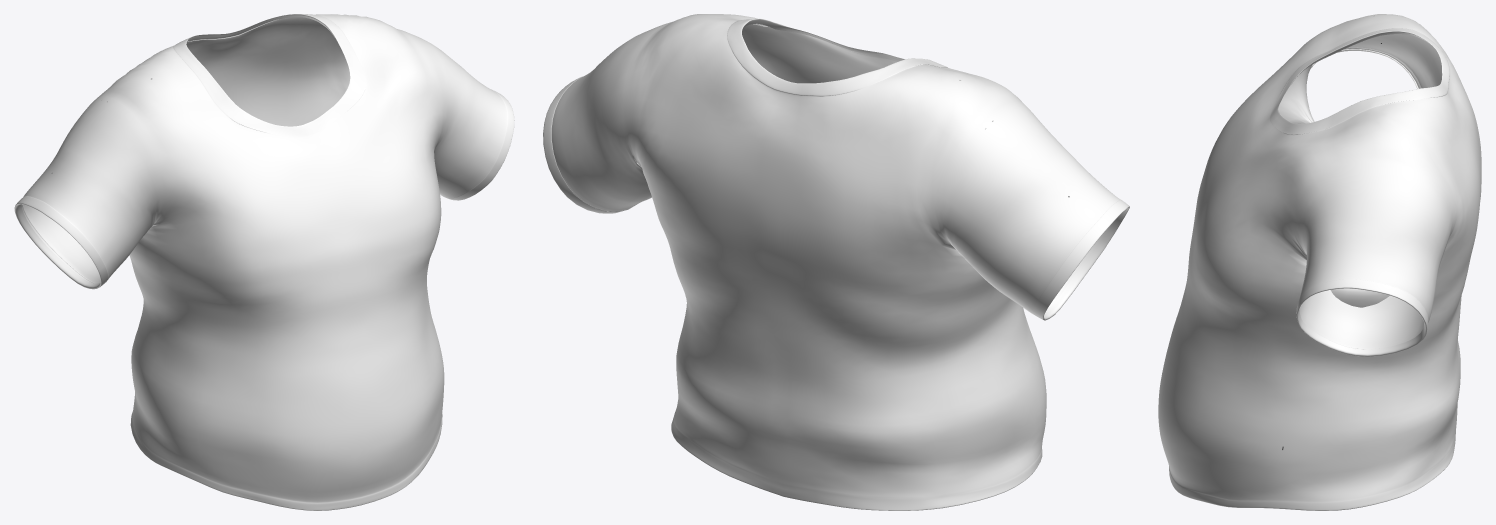
Rendered from Shirt.glb.
3 views of the same model, side by side, from view 1: azimuth 30°, elevation 25°; view 2: azimuth 150°, elevation 25°; view 3: azimuth 270°, elevation 25° (orthographic). The views are drawn at different scales.
Parts seen in each view (by area): view 1: TShirt_for_Genesis.002; view 2: TShirt_for_Genesis.002; view 3: TShirt_for_Genesis.002.
Boxes of the visible parts, x1,y1,x2,y2 form: TShirt_for_Genesis.002: (14,14,514,510); TShirt_for_Genesis.002: (543,14,1129,510); TShirt_for_Genesis.002: (1158,14,1481,510).
Bounding box in the file's own units: 13.84 × 11.1 × 7.92.
1 material, 1 textured.
